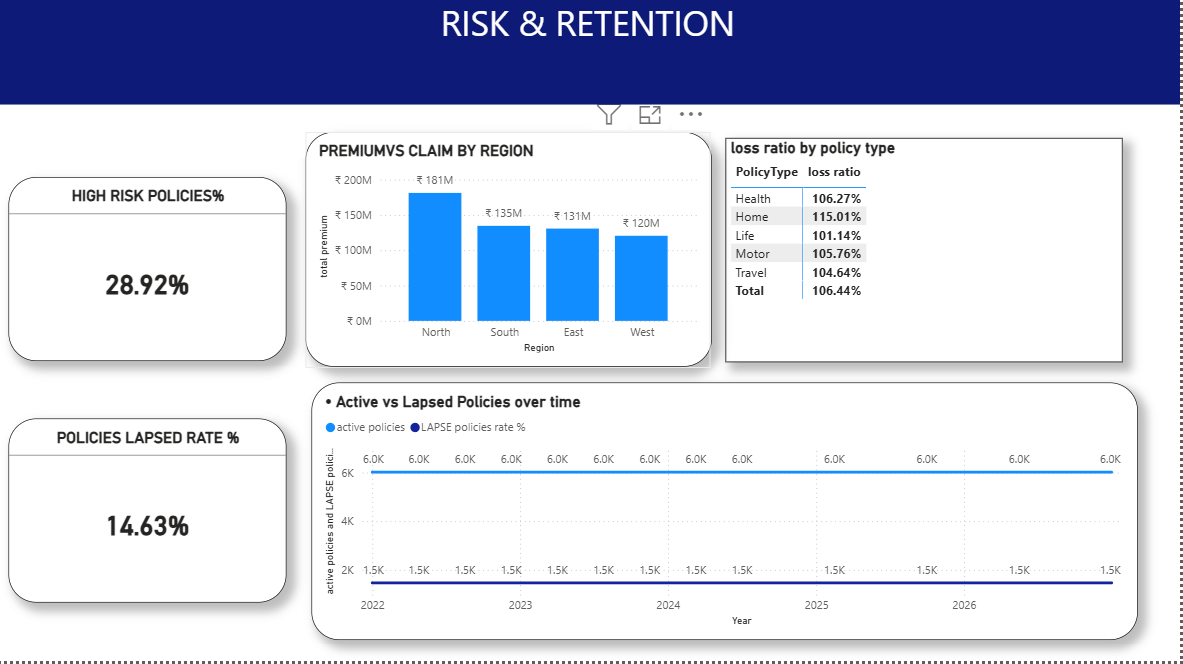

Layout of this report page (visuals, bound fields, positions):
{"tool":"powerbi","page":{"name":"Page 4","canvas":[1280,720],"ordinal":3},"visuals":[{"type":"card","title":"POLICIES LAPSED RATE %","fields":{"Values":["Fact_Policies.policies lapsed rate%"]},"box":[15,458.3,300,198.3],"z":0},{"type":"clusteredColumnChart","title":"PREMIUMVS CLAIM BY REGION","fields":{"Category":["Dim_Agent.Region"],"Y":["Fact_Premiums.total premium"]},"box":[334.5,149.3,438.4,253.2],"z":1000},{"type":"pivotTable","title":"loss ratio by policy type","fields":{"Rows":["Dim_Policy.PolicyType"],"Values":["Dim_Customer.loss ratio"]},"box":[788,155,429,241.9],"z":2000},{"type":"lineChart","title":"•\tActive vs Lapsed Policies over time","fields":{"Y":["Fact_Policies.active policies","Fact_Policies.LAPSE policies rate %"],"Category":["Fact_Claims.ClaimDate.Variation.Date Hierarchy.Year","Fact_Claims.ClaimDate.Variation.Date Hierarchy.Quarter","Fact_Claims.ClaimDate.Variation.Date Hierarchy.Month","Fact_Claims.ClaimDate.Variation.Date Hierarchy.Day"]},"box":[342,419.5,892,277.8],"z":3000},{"type":"textbox","box":[32,12,302,166],"z":4000},{"type":"textbox","box":[0,0,1279.4,119.1],"z":5000},{"type":"card","title":"HIGH RISK POLICIES%","fields":{"Values":["Fact_Policies.HIGH RISK POLICIES %"]},"box":[15,198.3,300,198.3],"z":6000}]}

Visuals, with their boxes in screenshot pixels (x1, y1, x2, y2), scaled from the page's 1280x720 canvas onto the 1183x664 screenshot:
"POLICIES LAPSED RATE %" card: box(14, 423, 291, 606)
"PREMIUMVS CLAIM BY REGION" clusteredColumnChart: box(309, 138, 714, 371)
"loss ratio by policy type" pivotTable: box(728, 143, 1125, 366)
"•	Active vs Lapsed Policies over time" lineChart: box(316, 387, 1140, 643)
textbox: box(30, 11, 309, 164)
textbox: box(0, 0, 1182, 110)
"HIGH RISK POLICIES%" card: box(14, 183, 291, 366)
